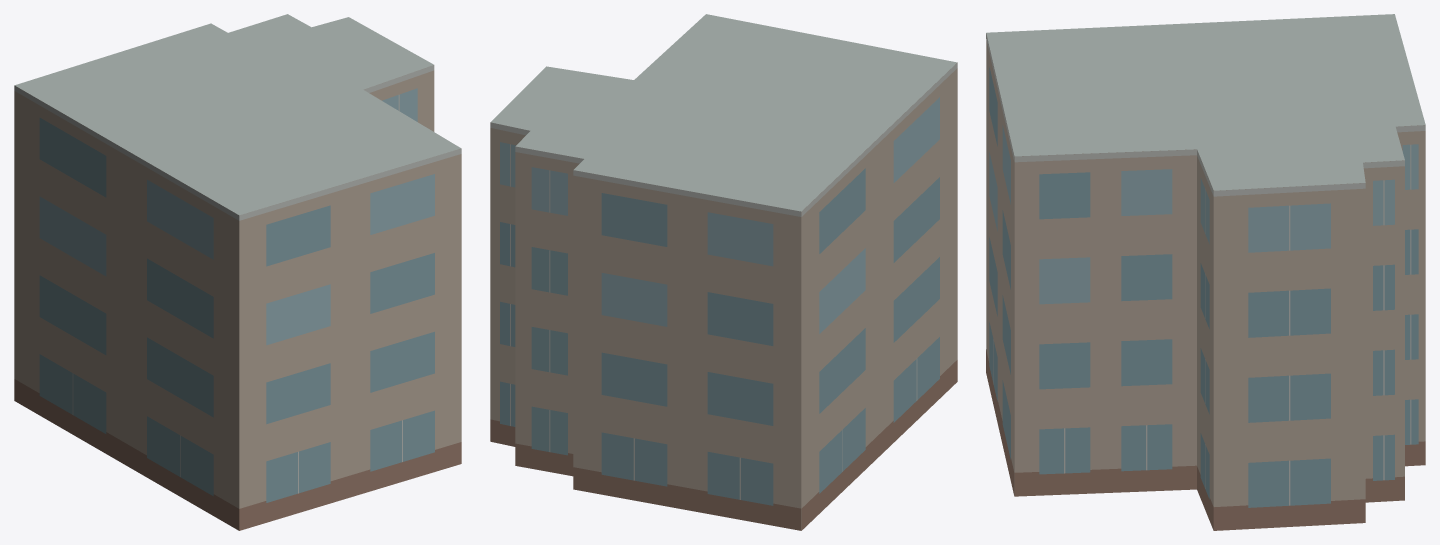
File: survey-upis-32981411.glb
3 views of the same model, side by side, from view 1: azimuth 30°, elevation 25°; view 2: azimuth 150°, elevation 25°; view 3: azimuth 270°, elevation 25° (orthographic). The views are drawn at different scales.
Parts seen in each view (by area): view 1: survey-upis-32981411.tmp; view 2: survey-upis-32981411.tmp; view 3: survey-upis-32981411.tmp.
Part boxes in pixels (x1,y1,x2,y2): survey-upis-32981411.tmp: [14, 14, 461, 530]; survey-upis-32981411.tmp: [490, 14, 957, 530]; survey-upis-32981411.tmp: [986, 14, 1425, 530].
Size of the model in its own units: 15.72 by 14.1 by 16.53.
